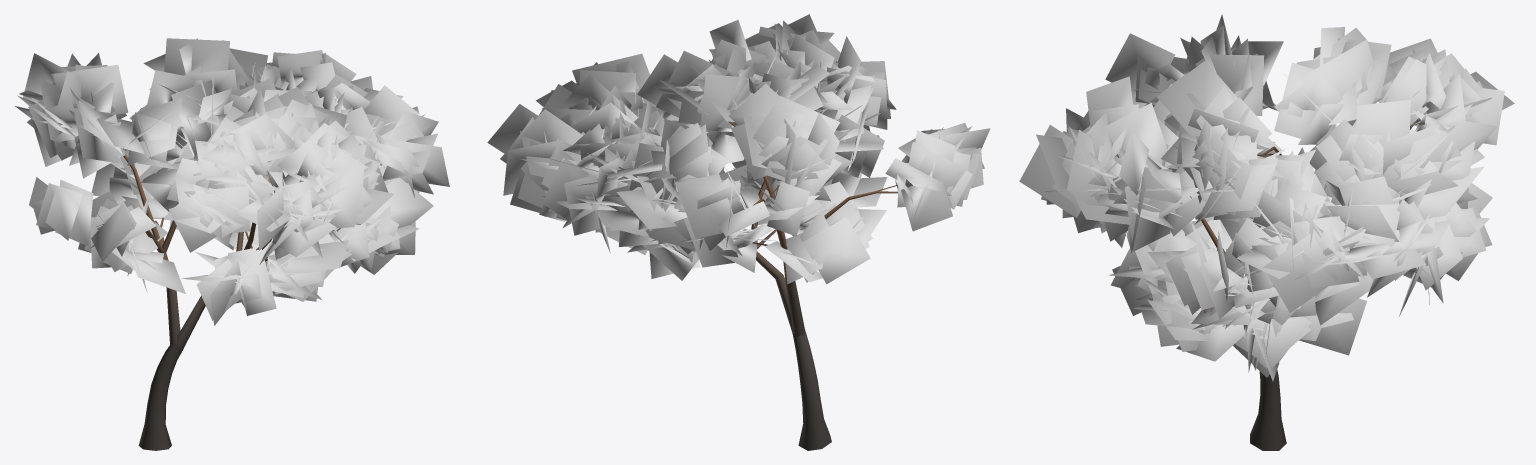
The picture shows the model from 3 angles, left to right: view 1: azimuth 30°, elevation 25°; view 2: azimuth 150°, elevation 25°; view 3: azimuth 270°, elevation 25°; orthographic projection. The views are drawn at different scales.
Visible parts, largest first — view 1: crown, trunk; view 2: crown, trunk; view 3: crown, trunk.
Boxes of the visible parts, x1,y1,x2,y2 form: crown: (15, 38, 449, 325); trunk: (96, 148, 275, 450); crown: (487, 14, 990, 284); trunk: (647, 121, 897, 450); crown: (1019, 14, 1514, 381); trunk: (1190, 122, 1419, 450).
Size of the model in its own units: 13.08 by 10.47 by 11.78.
